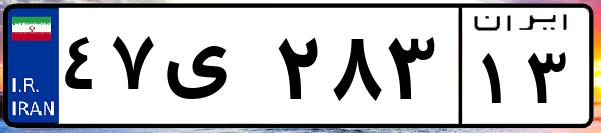1: (475, 38, 525, 113)
2: (270, 28, 330, 110)
3: (385, 28, 445, 110), (525, 38, 570, 115)
4: (57, 26, 110, 100)
7: (110, 28, 158, 98)
8: (330, 28, 385, 110)
ی: (158, 20, 270, 120)
